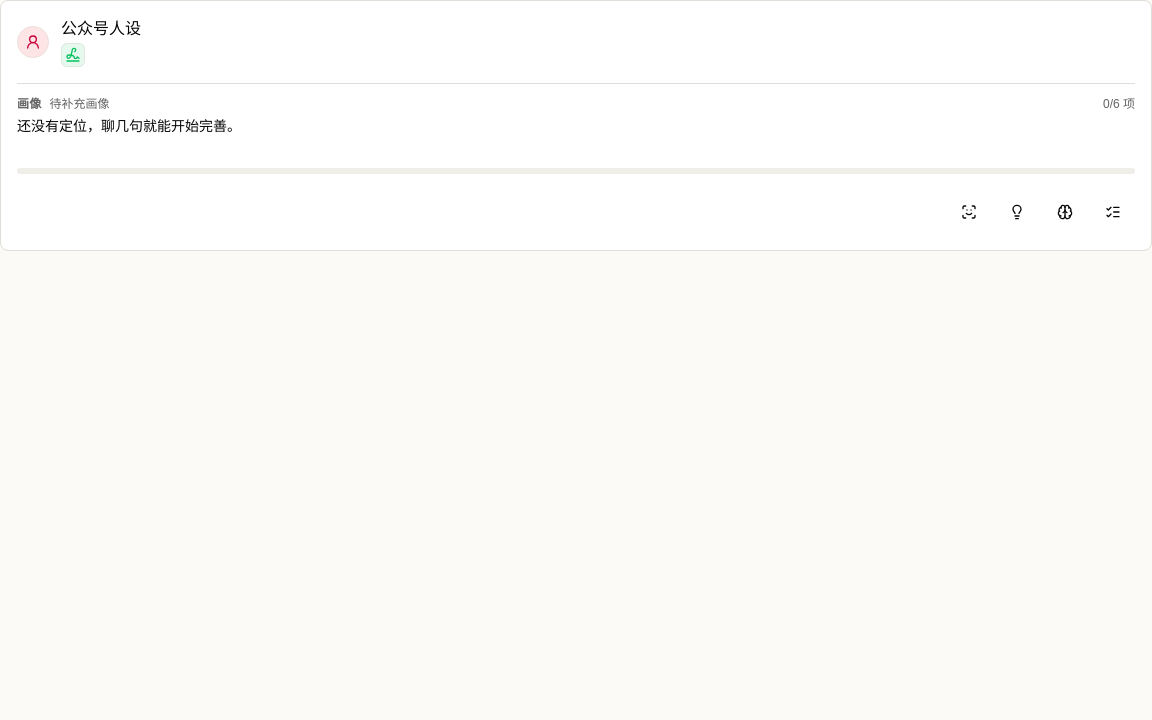
ProjectCard › includes profile controls in project memory for  projects
Click the button named "人设记忆：公众号人设" at (1065, 212), box x1=1043 y1=190 x2=1087 y2=234
(page scrolled)
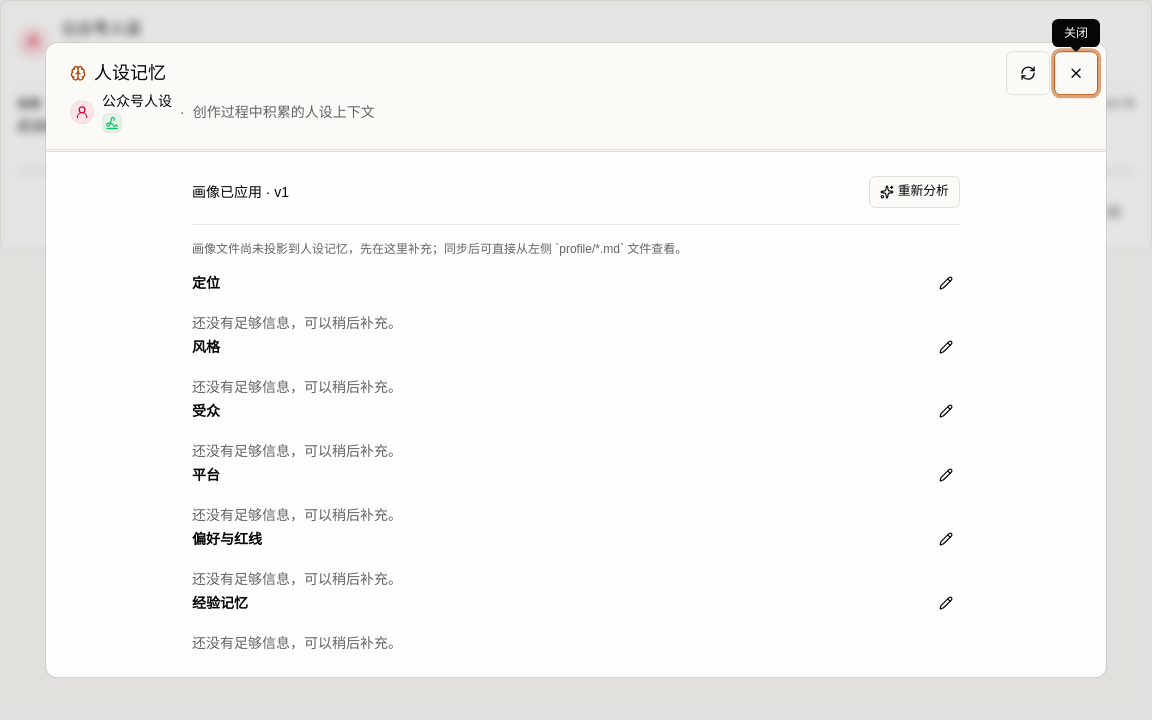
Result: the element named "人设画像" is shown
